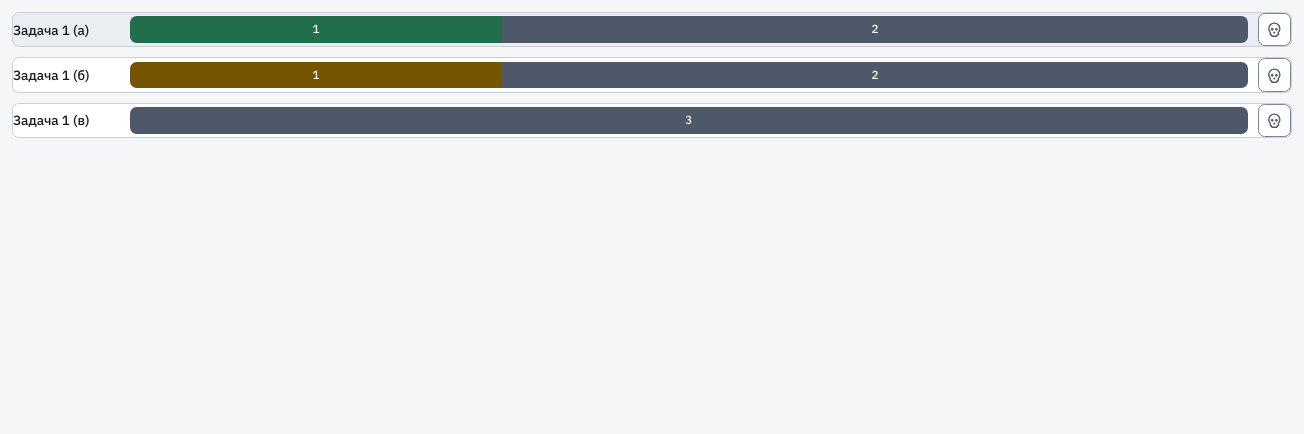
Test: TeacherProblemStats — разбор frame › opens an unpublished solution directly in the draft editor
This screenshot has width=1304, height=434.
Click the button named "по задаче Задача 1 (а)": (652,30) x1=12 y1=12 x2=1292 y2=47
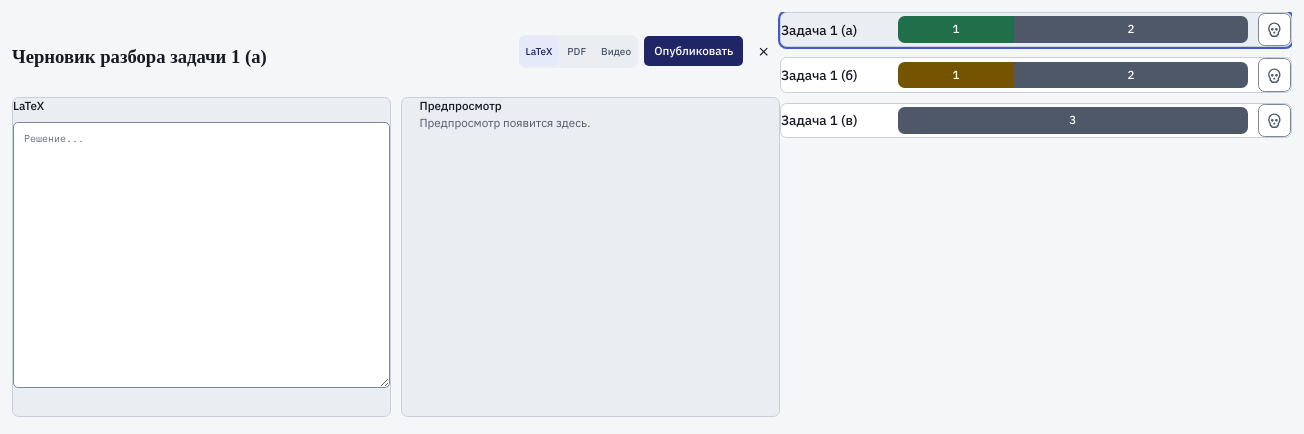
expect the text box labelled "LaTeX" is shown: met, box x1=13 y1=122 x2=390 y2=388
